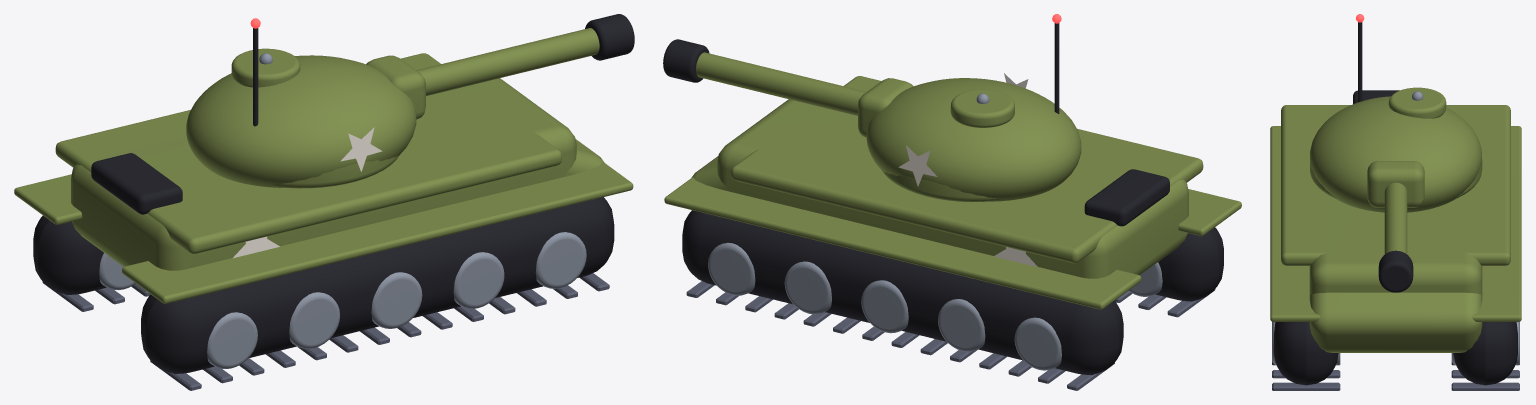
File: tank.glb
3 renders of one model, left to right at view 1: azimuth 30°, elevation 25°; view 2: azimuth 150°, elevation 25°; view 3: azimuth 270°, elevation 25°, orthographic. The views are drawn at different scales.
Visible parts, largest first — view 1: tank.022, turret.008, barrel.015; view 2: tank.022, turret.008, barrel.015; view 3: tank.022, turret.008, barrel.015.
Part boxes in pixels (box(x1,y1,x2,y2)): tank.022: box(14, 53, 633, 390); turret.008: box(186, 18, 425, 188); barrel.015: box(416, 14, 634, 95); tank.022: box(664, 76, 1241, 390); turret.008: box(858, 14, 1081, 202); barrel.015: box(663, 39, 866, 115); tank.022: box(1270, 90, 1521, 390); turret.008: box(1310, 14, 1482, 212); barrel.015: box(1378, 182, 1413, 292).
Bounding box in the file's own units: 7.2 × 3.91 × 3.5.
1 material, 1 textured.
